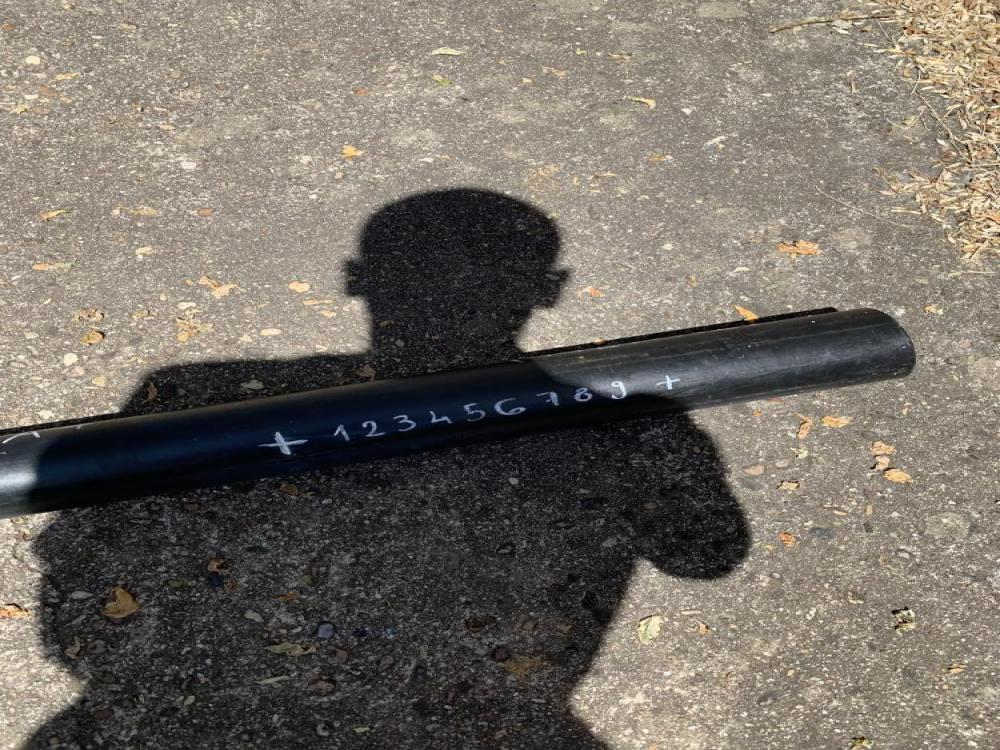+: (578, 519, 606, 559), (501, 239, 519, 258)
1: (566, 488, 589, 500)
2: (561, 461, 583, 479)
3: (553, 438, 575, 456)
4: (548, 412, 565, 428)
5: (537, 386, 562, 404)
6: (529, 354, 555, 381)
7: (518, 330, 545, 348)
8: (517, 305, 536, 321)
9: (508, 279, 533, 293)
